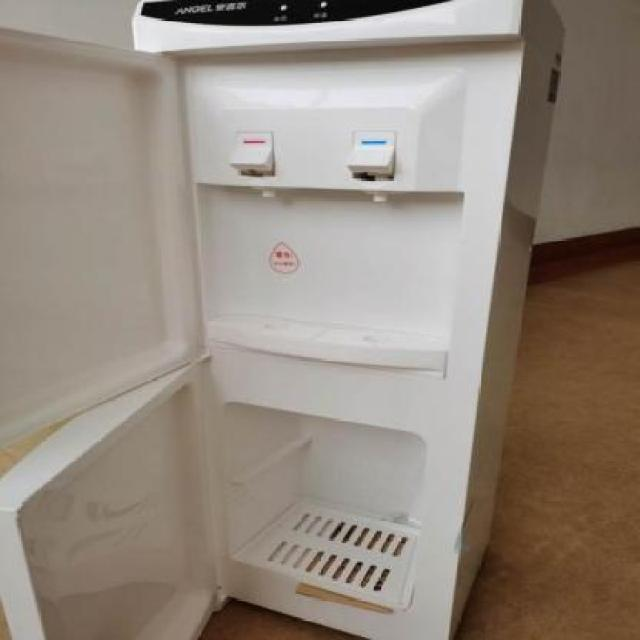cooler: (128, 0, 565, 640)
